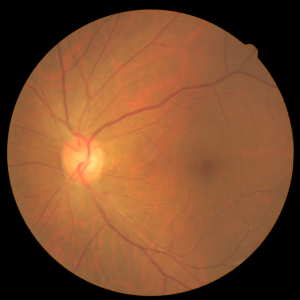cataract: (34, 104, 239, 219)
